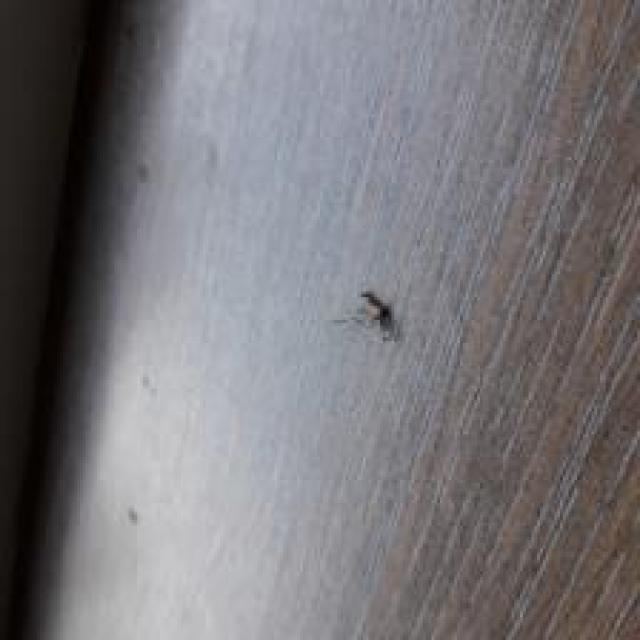Culex: (357, 290, 397, 339)
